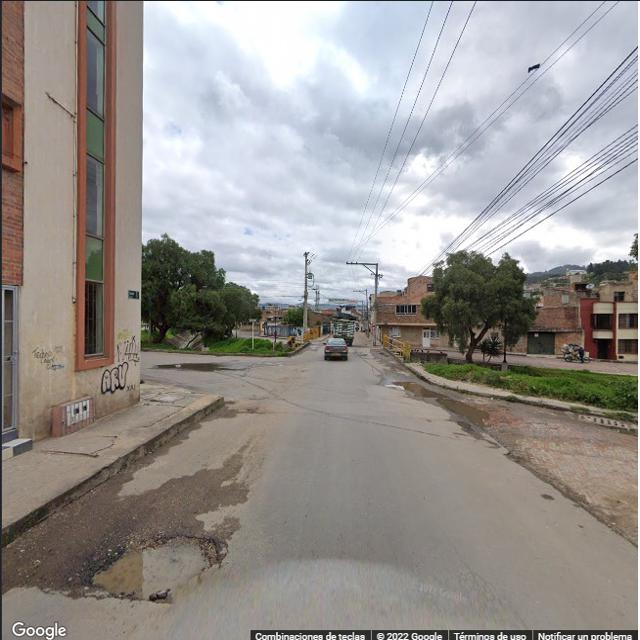D40: (81, 532, 222, 592)
